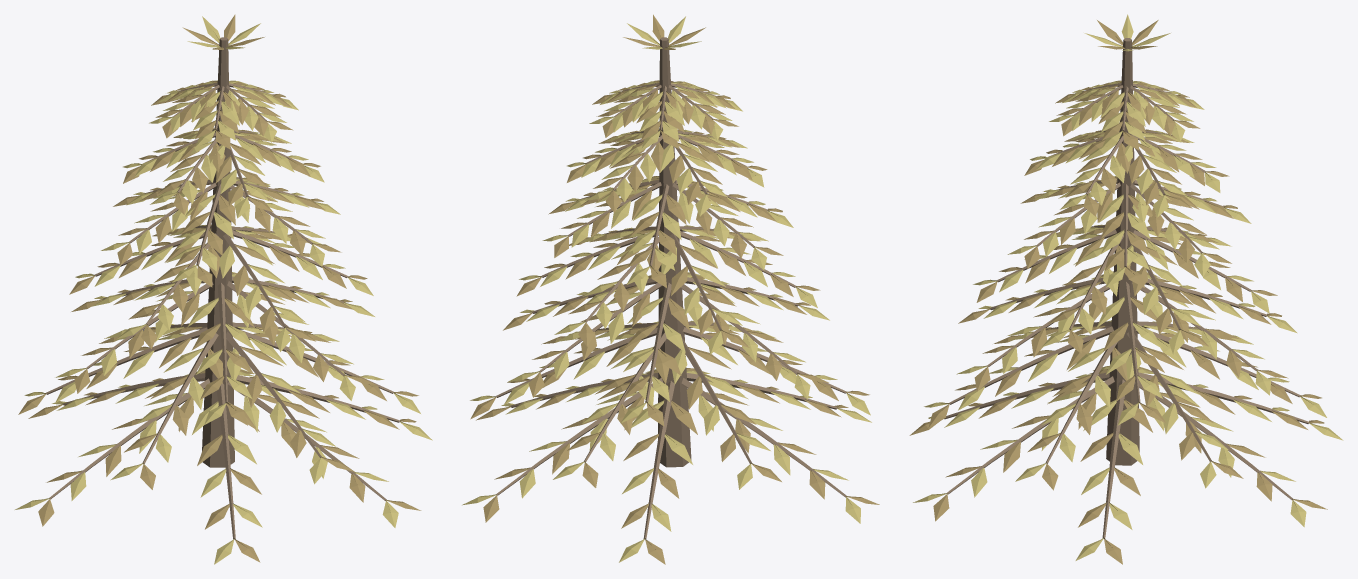
The model's file is SM_PlantPineWiltedLod1.fbx.
The picture shows the model from 3 angles, left to right: view 1: azimuth 30°, elevation 25°; view 2: azimuth 150°, elevation 25°; view 3: azimuth 270°, elevation 25°; orthographic projection.
Visible parts, largest first — view 1: PlantPineWiltedLod1; view 2: PlantPineWiltedLod1; view 3: PlantPineWiltedLod1.
Boxes of the visible parts, x1,y1,x2,y2 form: PlantPineWiltedLod1: (15,14,432,564); PlantPineWiltedLod1: (462,14,879,564); PlantPineWiltedLod1: (909,14,1343,564).
Bounding box in the file's own units: 2.3 × 2.43 × 2.19.
